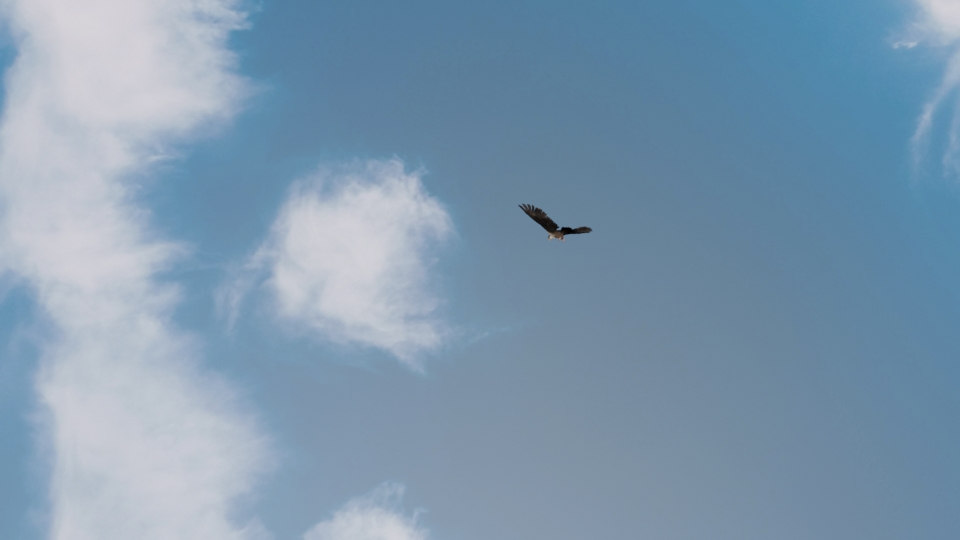bird: (518, 200, 591, 241)
